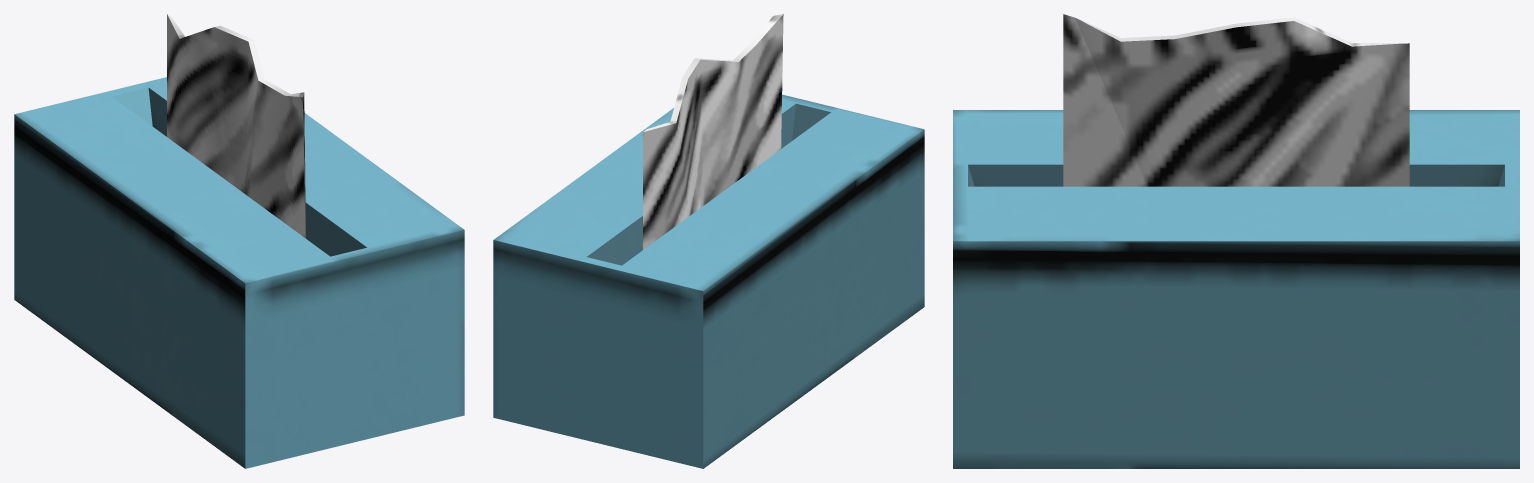
File: BthRmTissueBox.fbx
3 renders of one model, left to right at view 1: azimuth 30°, elevation 25°; view 2: azimuth 150°, elevation 25°; view 3: azimuth 270°, elevation 25°, orthographic. The views are drawn at different scales.
Parts seen in each view (by area): view 1: polySurface37; view 2: polySurface37; view 3: polySurface37.
Part boxes in pixels (x1,y1,x2,y2): polySurface37: (14, 14, 464, 468); polySurface37: (493, 14, 924, 468); polySurface37: (953, 14, 1519, 468).
Size of the model in its own units: 13.99 by 19.13 by 25.52.
